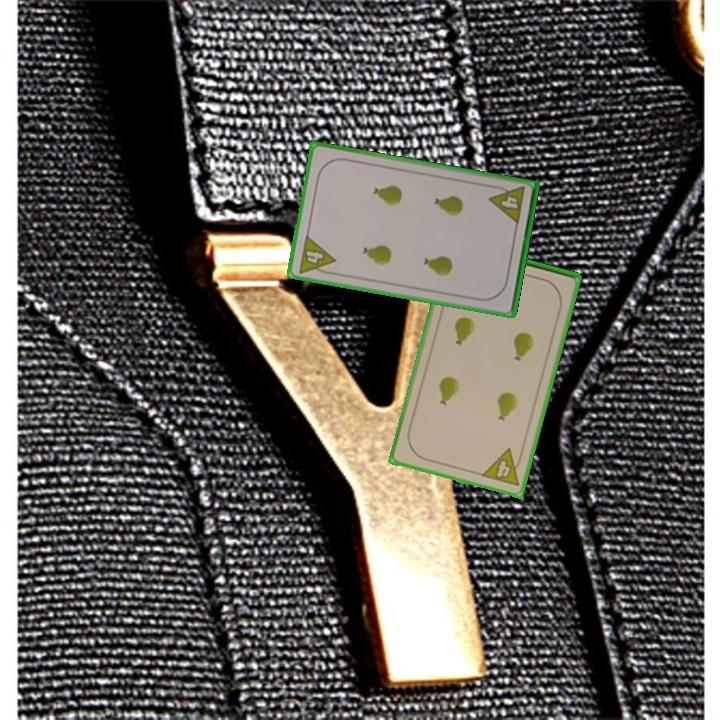4p: (478, 445, 526, 489), (294, 232, 338, 278), (486, 182, 528, 227)
